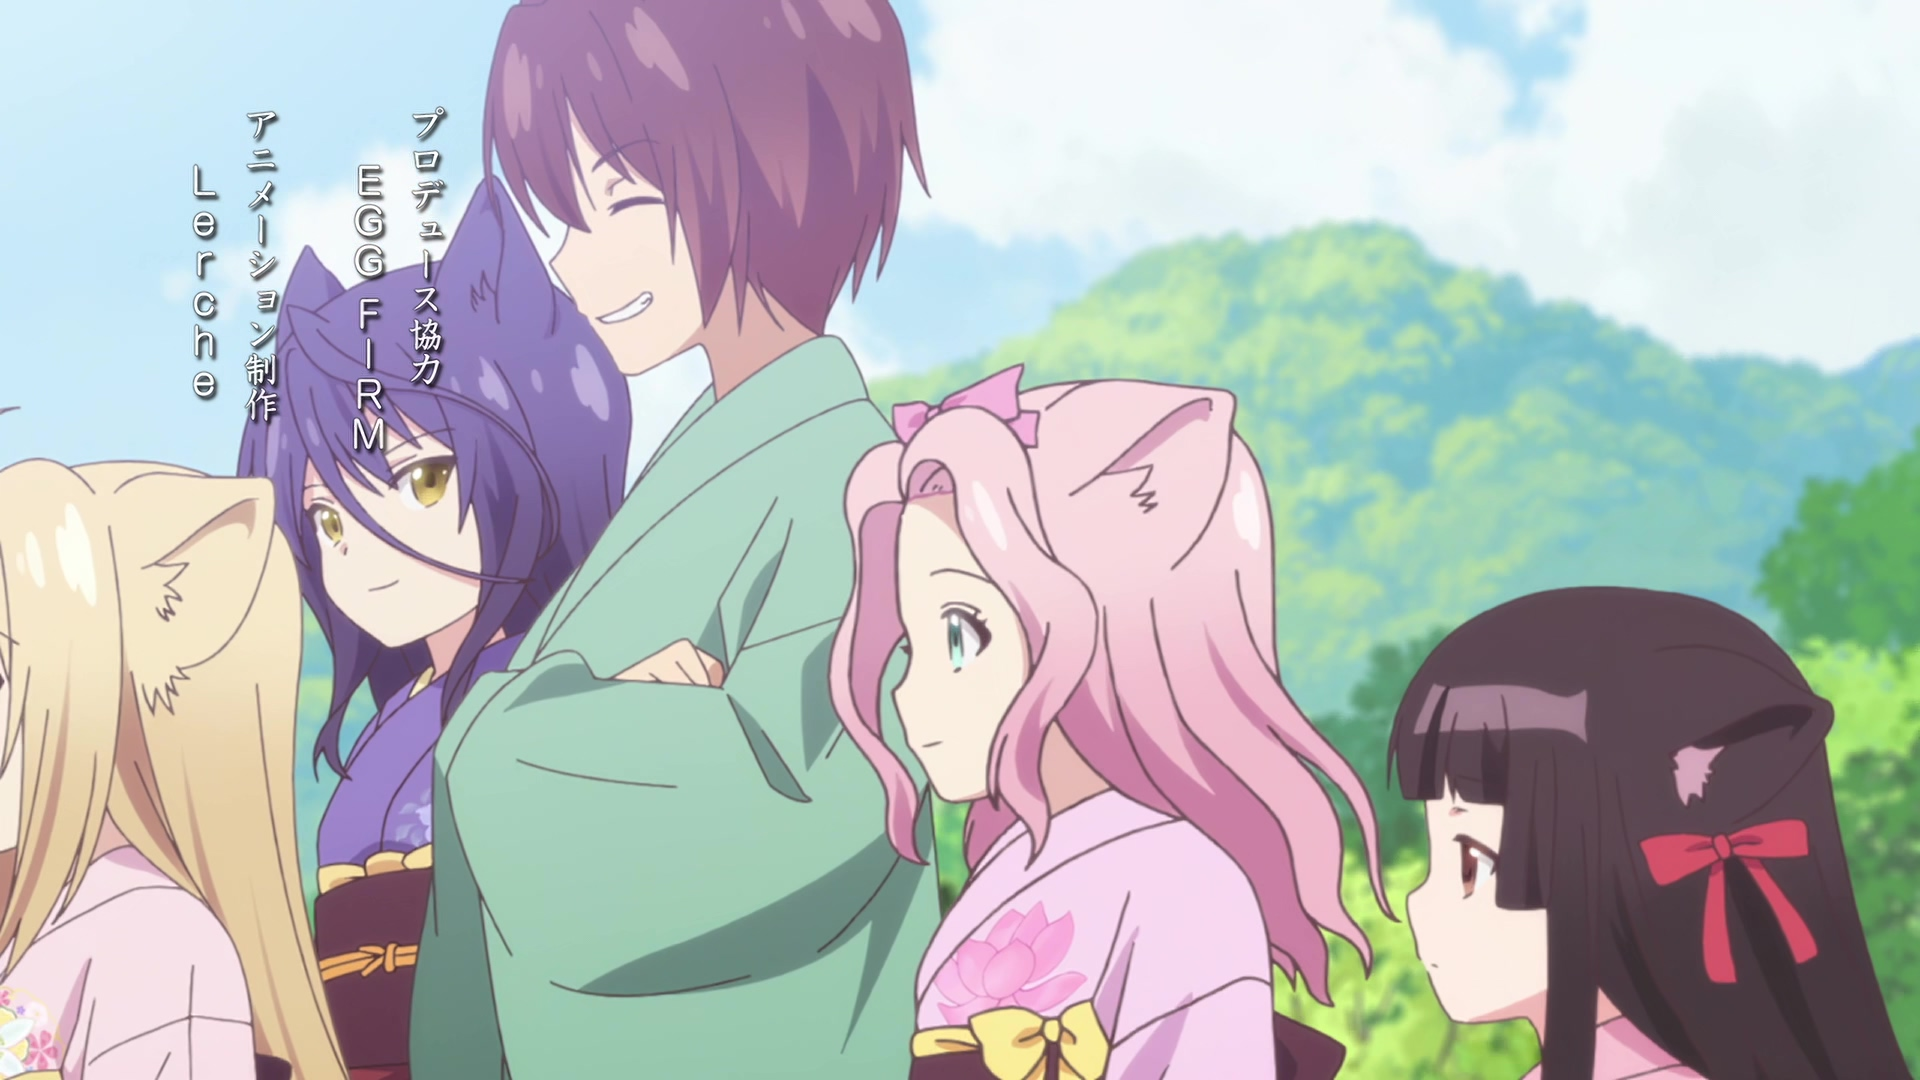枣: (410, 1, 943, 1080)
柚: (1, 458, 344, 1080)
樱: (1386, 585, 1911, 1080)
皋: (237, 175, 632, 1080)
莲: (828, 364, 1400, 1080)
